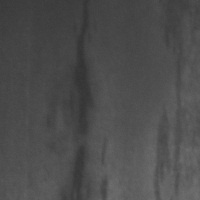inclusion: (57, 3, 94, 198), (151, 51, 189, 199), (93, 133, 113, 199)
